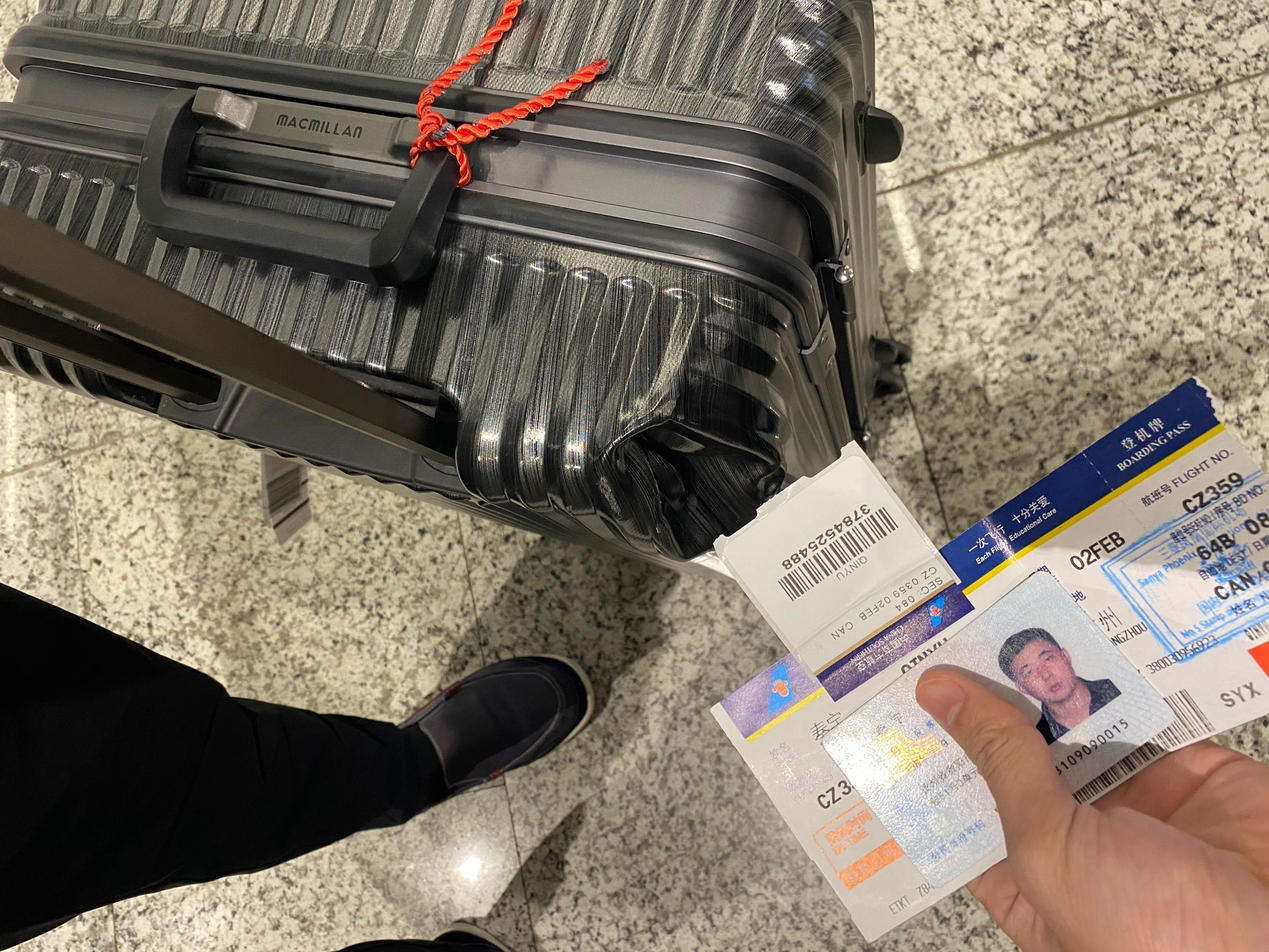rupture: (596, 410, 787, 565)
